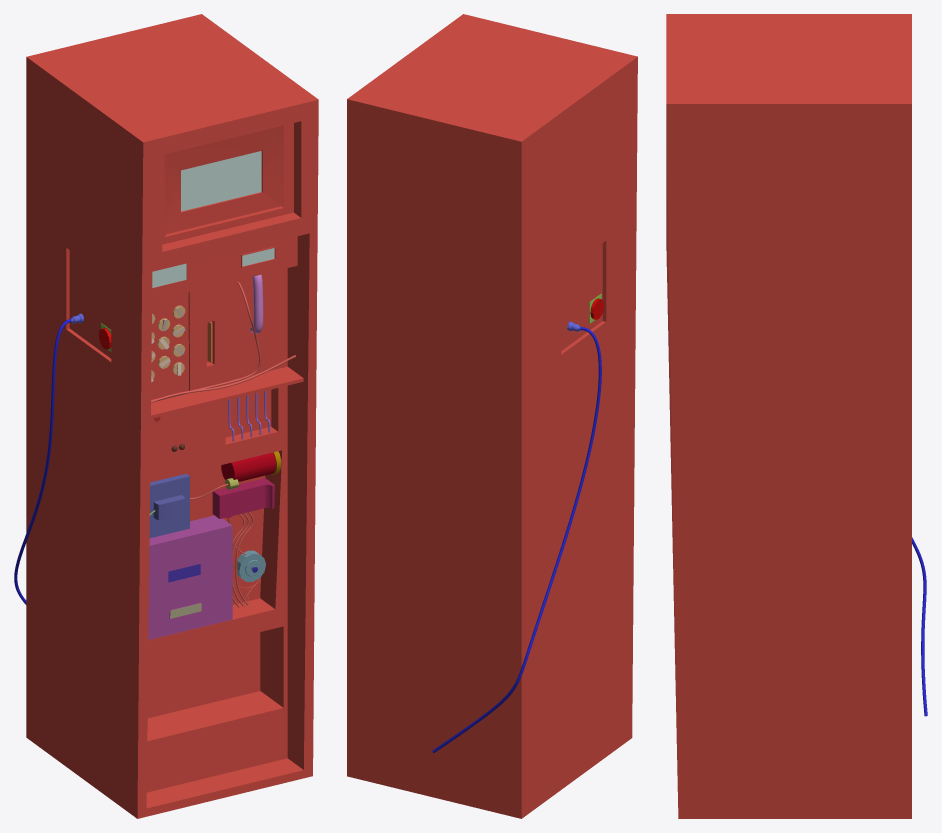
File: oxy_gen.fbx
The picture shows the model from 3 angles, left to right: view 1: azimuth 30°, elevation 25°; view 2: azimuth 150°, elevation 25°; view 3: azimuth 270°, elevation 25°; orthographic projection. The views are drawn at different scales.
Parts seen in each view (by area): view 1: Cylinder.001; view 2: Cylinder.001; view 3: Cylinder.001.
Boxes of the visible parts, left/top/right/bottom form: Cylinder.001: left=14, top=14, right=318, bottom=818; Cylinder.001: left=347, top=14, right=637, bottom=818; Cylinder.001: left=666, top=14, right=927, bottom=818.
Size of the model in its own units: 146 by 468 by 155.
